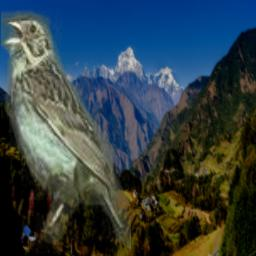Sparrow: (1, 2, 131, 255)
